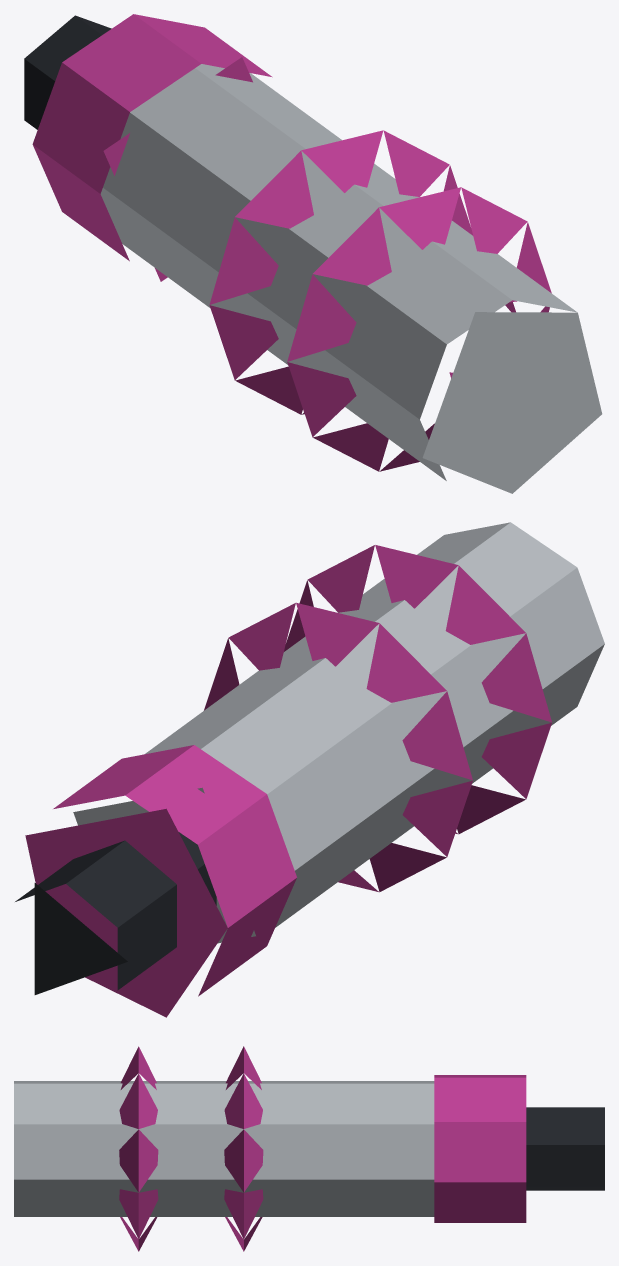
File: stim-charisma.lod.glb
3 views of the same model, one above another, from view 1: azimuth 30°, elevation 25°; view 2: azimuth 150°, elevation 25°; view 3: azimuth 270°, elevation 25° (orthographic). The views are drawn at different scales.
Visible parts, largest first — view 1: m; view 2: m; view 3: m.
Boxes of the visible parts, x1,y1,x2,y2 form: m: [24, 14, 602, 493]; m: [15, 522, 604, 1017]; m: [14, 1046, 604, 1251].
Size of the model in its own units: 0.0235 by 0.0224 by 0.0669.
